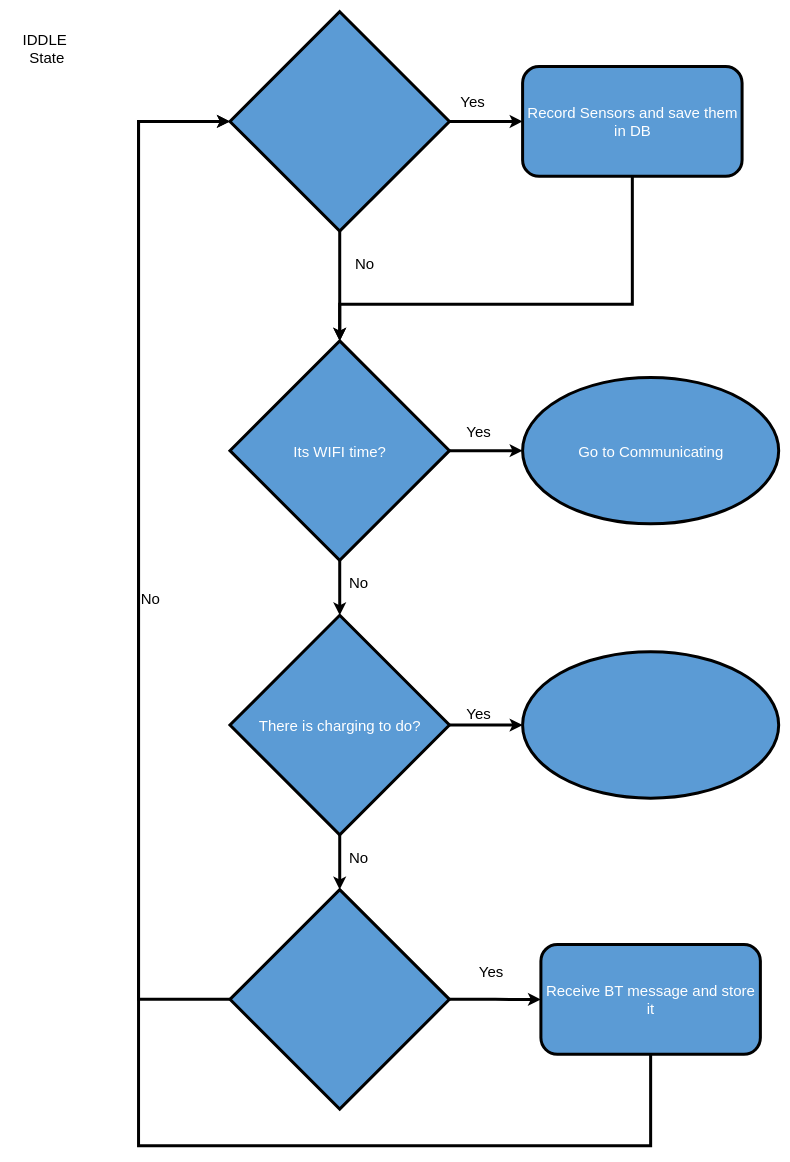
Some shapes in this 790 by 1162 pixel diagram are drawn without their labels. Here are the shapes that lost their labels. From the top down, the centre of each, then its label:
At (339,121): "Its sensing Time?".
At (650,724): "Go to Charging".
At (339,999): "The bird need communication?".
